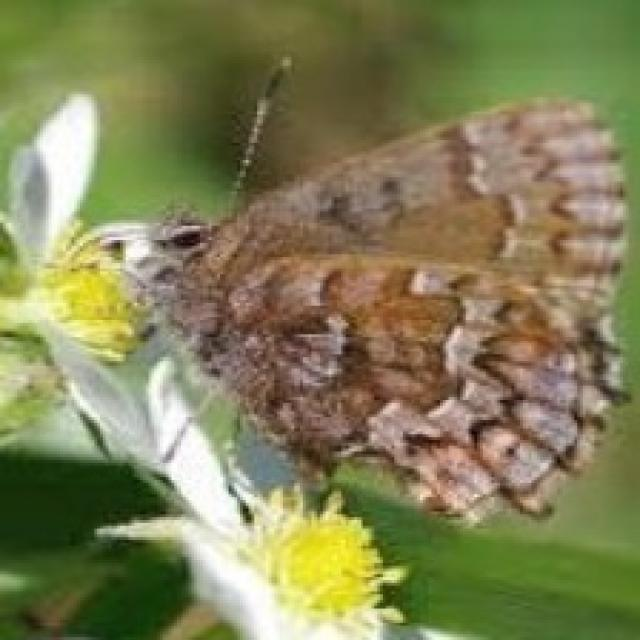butterfly: (86, 51, 634, 526)
